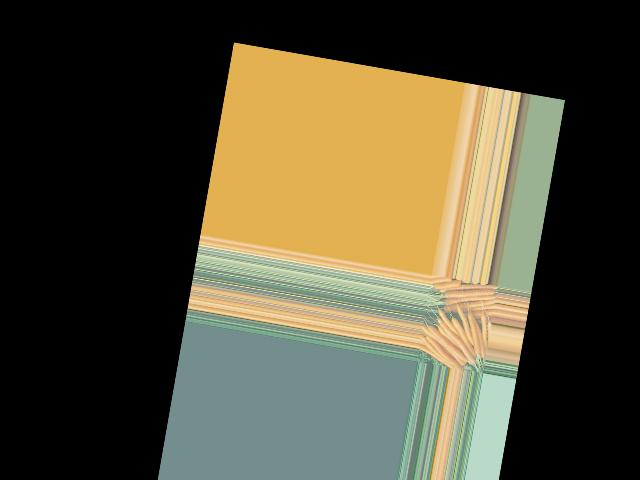carrot: (465, 314, 490, 356)
